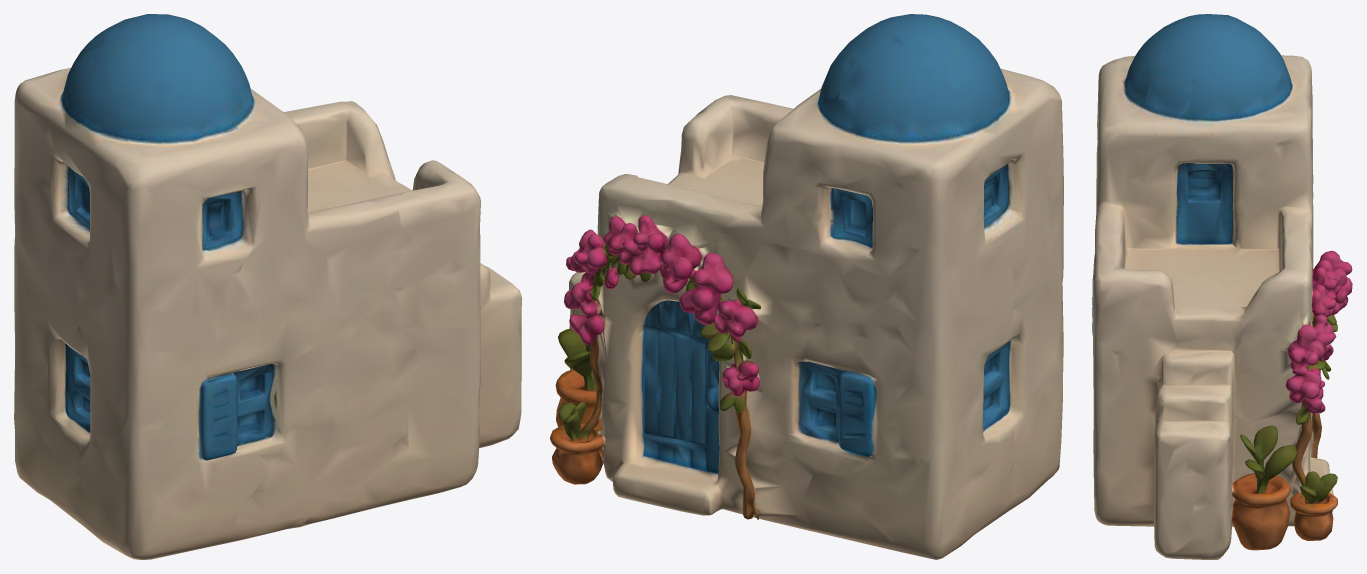
The model's file is house_a.glb.
3 renders of one model, left to right at view 1: azimuth 30°, elevation 25°; view 2: azimuth 150°, elevation 25°; view 3: azimuth 270°, elevation 25°, orthographic. The views are drawn at different scales.
Visible parts, largest first — view 1: tripo_node_52480e58-7d09-4a12-b4d5-9784ac83ea1f; view 2: tripo_node_52480e58-7d09-4a12-b4d5-9784ac83ea1f; view 3: tripo_node_52480e58-7d09-4a12-b4d5-9784ac83ea1f.
Boxes of the visible parts, <box> form: tripo_node_52480e58-7d09-4a12-b4d5-9784ac83ea1f: <box>14,14,521,559</box>; tripo_node_52480e58-7d09-4a12-b4d5-9784ac83ea1f: <box>550,14,1063,559</box>; tripo_node_52480e58-7d09-4a12-b4d5-9784ac83ea1f: <box>1092,14,1352,559</box>.
Bounding box in the file's own units: 0.9342 × 0.9991 × 0.583.
1 material, 1 textured.
